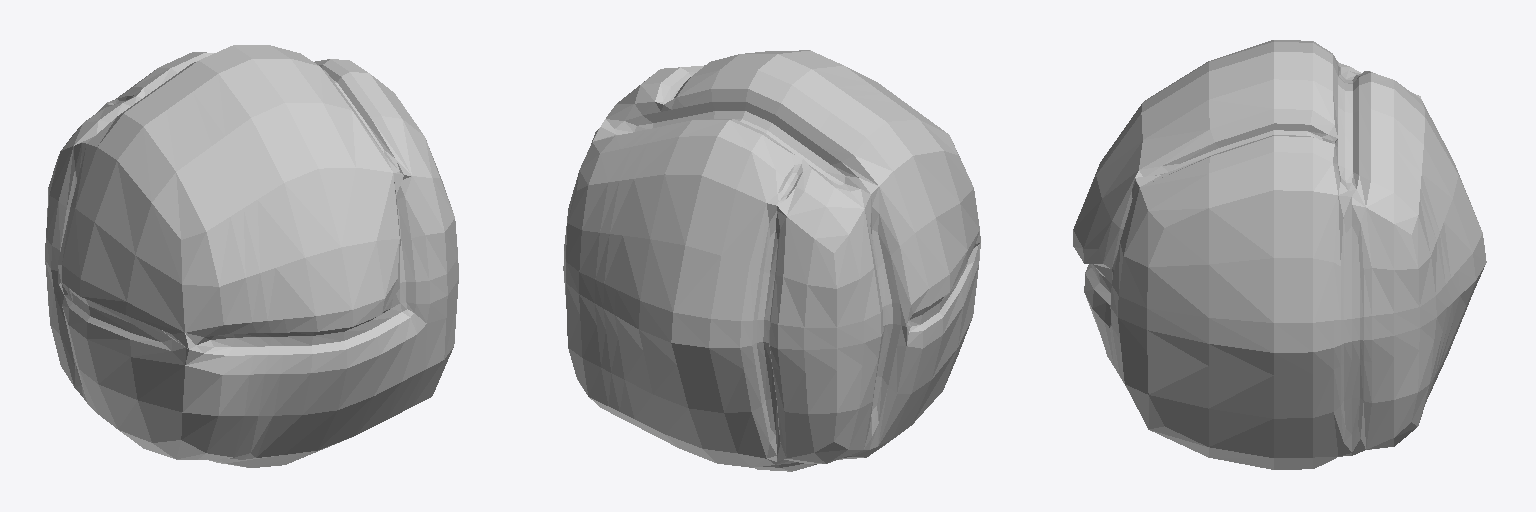
File: magma-ball.obj
3 views of the same model, side by side, from view 1: azimuth 30°, elevation 25°; view 2: azimuth 150°, elevation 25°; view 3: azimuth 270°, elevation 25° (orthographic).
Parts seen in each view (by area): view 1: Bolita_fuego; view 2: Bolita_fuego; view 3: Bolita_fuego.
Part boxes in pixels (x1,y1,x2,y2): Bolita_fuego: (45, 45, 458, 467); Bolita_fuego: (563, 50, 980, 471); Bolita_fuego: (1073, 40, 1486, 469).
Size of the model in its own units: 1.3 by 1.4 by 1.3.